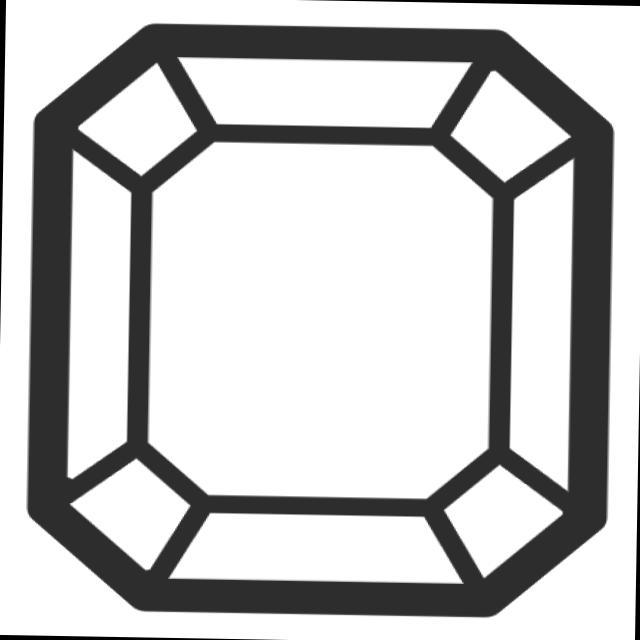emerald: (17, 16, 628, 625)
